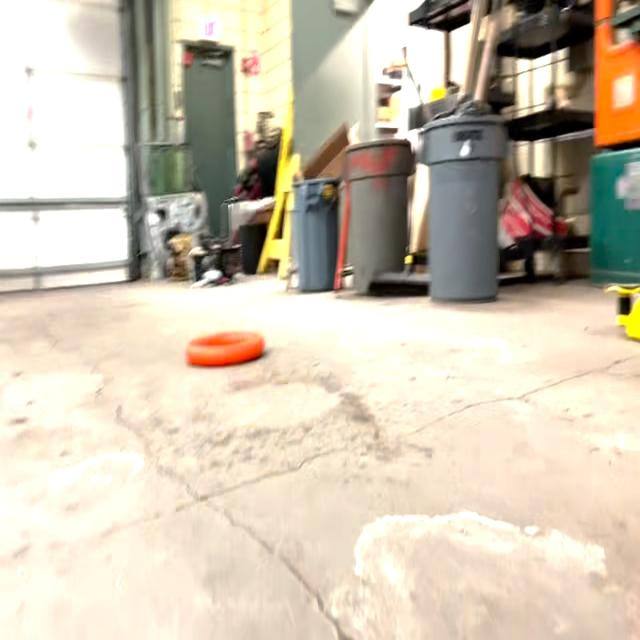note: (186, 330, 266, 368)
